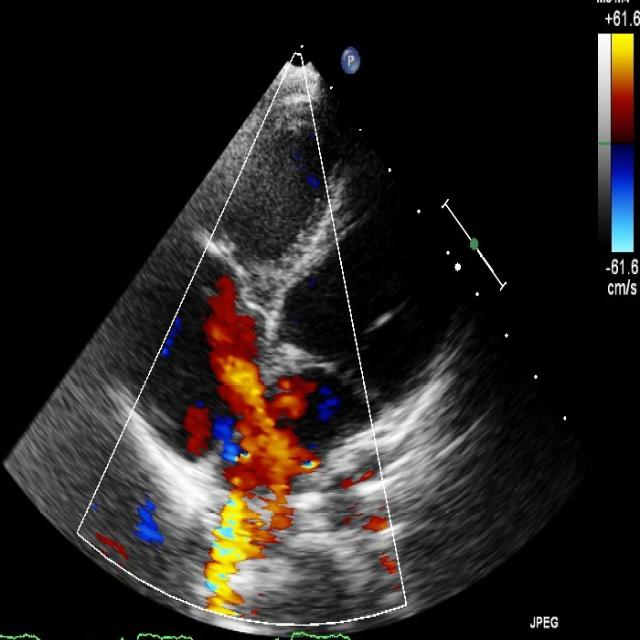ASDType2: (207, 320, 321, 490)
